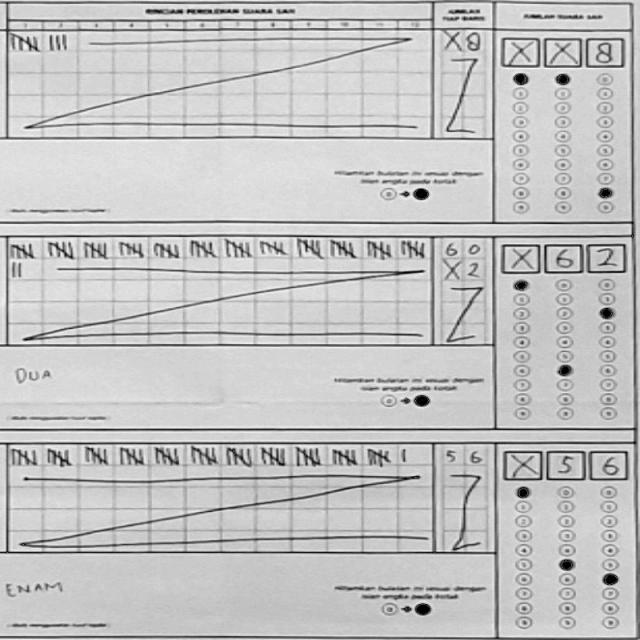Suara: (496, 442, 630, 484), (498, 30, 627, 70), (496, 238, 629, 274)
